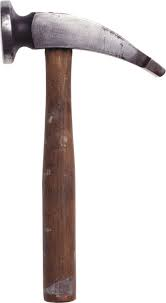hammer: (1, 1, 166, 303)
